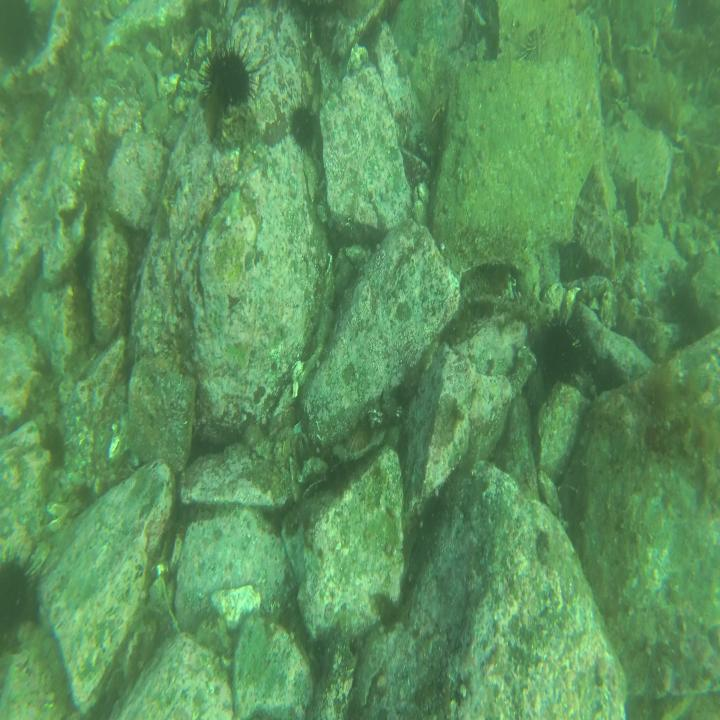echinus: (0, 544, 44, 640), (198, 40, 259, 106), (537, 313, 583, 390), (0, 0, 42, 70), (288, 90, 322, 159), (519, 20, 556, 66)
